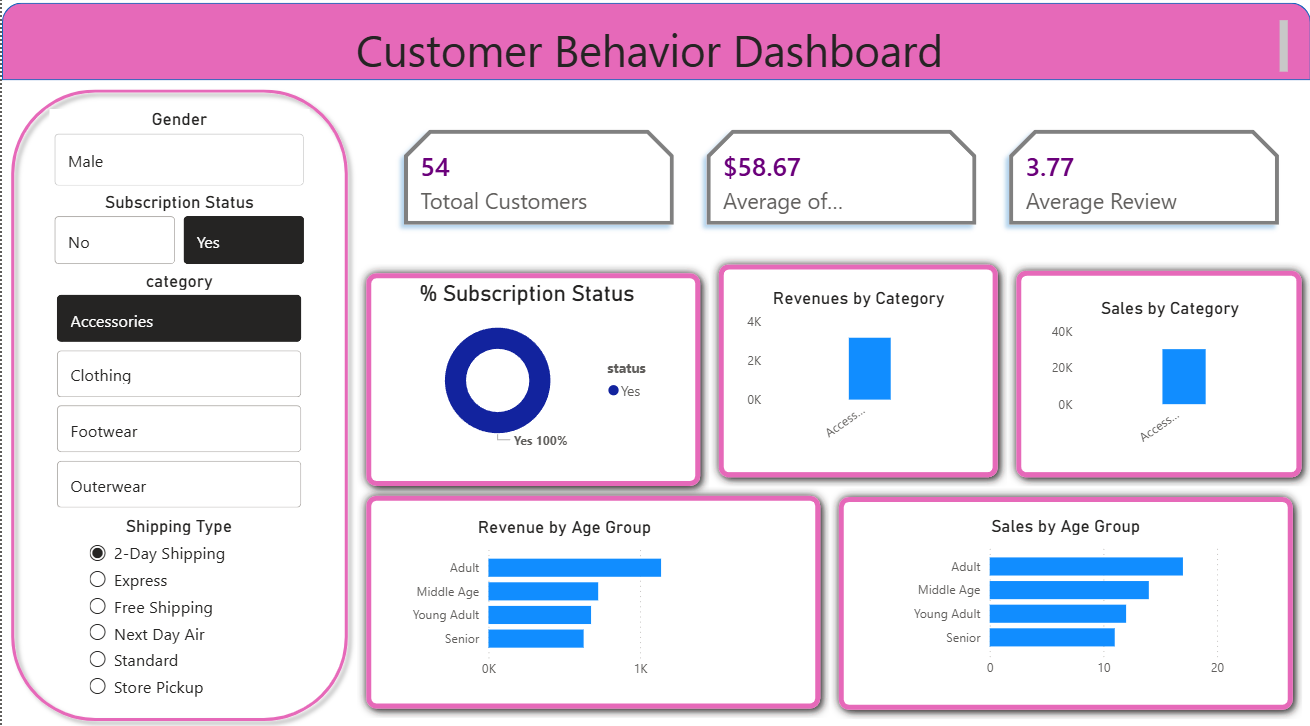

This screenshot's page, from the dashboard's own definition file:
{"tool":"powerbi","page":{"name":"Page 1","canvas":[1280,720],"ordinal":0},"visuals":[{"type":"cardVisual","fields":{"Data":["public customer.Totoal Customers","Avg(public customer.purchase_amount)","public customer.Average Review"]},"box":[364.4,103.9,915.9,151.6],"z":0},{"type":"shape","box":[0,8.6,1280.3,75.8],"z":1000},{"type":"textbox","box":[12.2,20.8,1251,63.6],"z":2000},{"type":"shape","box":[347.3,264.1,344.8,226.2],"z":3000},{"type":"donutChart","title":"% Subscription Status","fields":{"Category":["public customer.subscription_status"],"Y":["Sum(public customer.customer_id)"]},"box":[373,280,281.3,172.4],"z":4000},{"type":"shape","box":[692.1,255.6,291,226.2],"z":5000},{"type":"shape","box":[983.2,261.7,297.1,220.1],"z":6000},{"type":"lineClusteredColumnComboChart","title":"Revenues by Category","fields":{"Category":["public customer.category"],"Y":["Sum(public customer.purchase_amount)"]},"box":[723.9,287.4,228.7,162.6],"z":7000},{"type":"lineClusteredColumnComboChart","title":"Sales by Category","fields":{"Category":["public customer.category"],"Y":["Sum(public customer.customer_id)"]},"box":[1022.3,297.1,240.9,155.3],"z":8000},{"type":"shape","box":[0,84.4,347.3,635.9],"z":9000},{"type":"advancedSlicerVisual","fields":{"Values":["public customer.gender"]},"box":[46.5,112.5,254.3,80.7],"z":10000},{"type":"advancedSlicerVisual","fields":{"Values":["public customer.subscription_status"]},"box":[46.5,193.2,254.3,77],"z":11000},{"type":"advancedSlicerVisual","fields":{"Values":["public customer.category"]},"box":[48.9,270.2,249.5,239.7],"z":12000},{"type":"listSlicer","title":"Shipping Type","fields":{"Values":["public customer.shipping_type"]},"box":[79.5,509.9,187.1,187.1],"z":12001},{"type":"shape","box":[347.3,481.8,462.2,226.2],"z":12002},{"type":"clusteredBarChart","title":"Revenue by Age Group","fields":{"Category":["public customer.age_group"],"Y":["Sum(public customer.purchase_amount)"]},"box":[390.1,511.1,320.4,167.5],"z":12003},{"type":"shape","box":[809.5,483,462.2,226.2],"z":12004},{"type":"clusteredBarChart","title":"Sales by Age Group","fields":{"Category":["public customer.age_group"],"Y":["CountNonNull(public customer.customer_id)"]},"box":[880.4,509.9,320.4,167.5],"z":12005}]}

Visuals, with their boxes in screenshot pixels (x1, y1, x2, y2), scaled from the page's 1280x720 canvas onto the 1310x726 screenshot:
cardVisual - public customer.Totoal Customers x Avg(public customer.purchase_amount): bbox=[373, 105, 1309, 258]
shape: bbox=[0, 9, 1309, 85]
textbox: bbox=[12, 21, 1293, 85]
shape: bbox=[355, 266, 708, 494]
"% Subscription Status" donutChart: bbox=[382, 282, 670, 456]
shape: bbox=[708, 258, 1006, 486]
shape: bbox=[1006, 264, 1309, 486]
"Revenues by Category" lineClusteredColumnComboChart: bbox=[741, 290, 975, 454]
"Sales by Category" lineClusteredColumnComboChart: bbox=[1046, 300, 1293, 456]
shape: bbox=[0, 85, 355, 725]
advancedSlicerVisual - public customer.gender: bbox=[48, 113, 308, 195]
advancedSlicerVisual - public customer.subscription_status: bbox=[48, 195, 308, 272]
advancedSlicerVisual - public customer.category: bbox=[50, 272, 305, 514]
"Shipping Type" listSlicer: bbox=[81, 514, 273, 703]
shape: bbox=[355, 486, 828, 714]
"Revenue by Age Group" clusteredBarChart: bbox=[399, 515, 727, 684]
shape: bbox=[828, 487, 1302, 715]
"Sales by Age Group" clusteredBarChart: bbox=[901, 514, 1229, 683]
